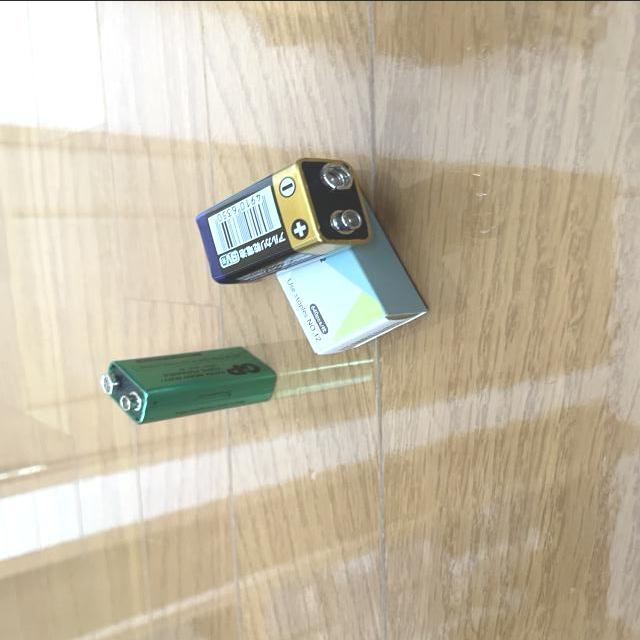9V: (195, 157, 373, 283), (102, 345, 278, 424)
